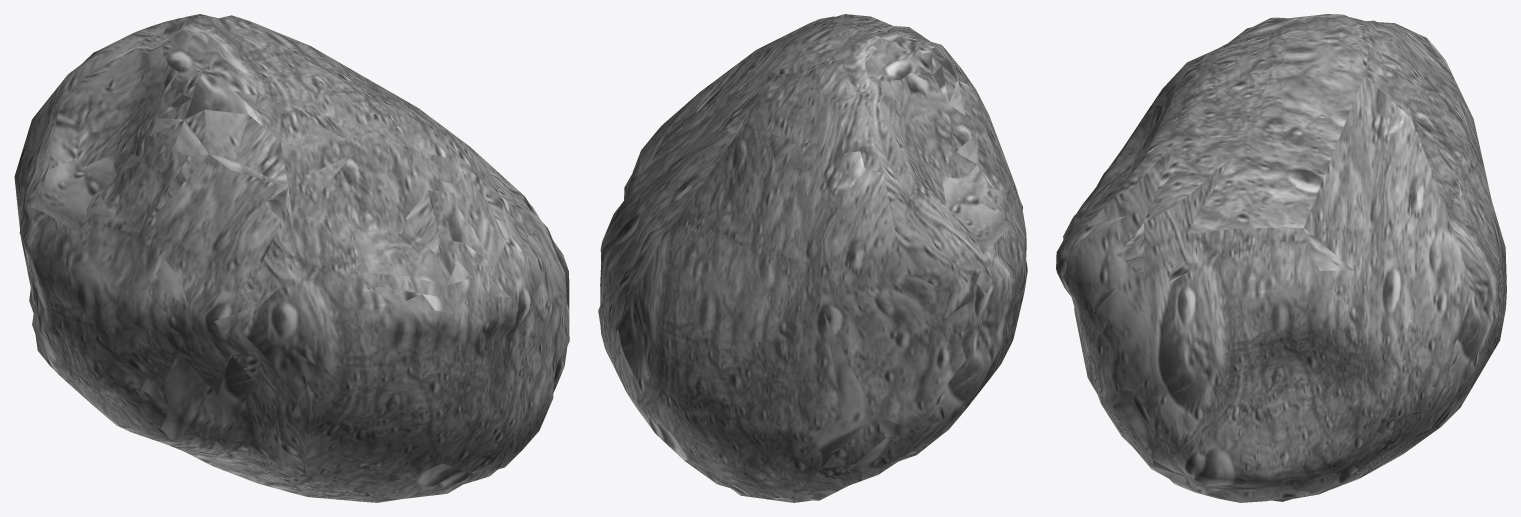
Rendered from asteroid_0.FBX.
The picture shows the model from 3 angles, left to right: view 1: azimuth 30°, elevation 25°; view 2: azimuth 150°, elevation 25°; view 3: azimuth 270°, elevation 25°; orthographic projection. The views are drawn at different scales.
Visible parts, largest first — view 1: GeoSphere001; view 2: GeoSphere001; view 3: GeoSphere001.
Boxes of the visible parts, x1,y1,x2,y2 form: GeoSphere001: (14,14,569,502); GeoSphere001: (598,14,1027,502); GeoSphere001: (1056,14,1506,502).
Size of the model in its own units: 88.23 by 89.01 by 86.48.
